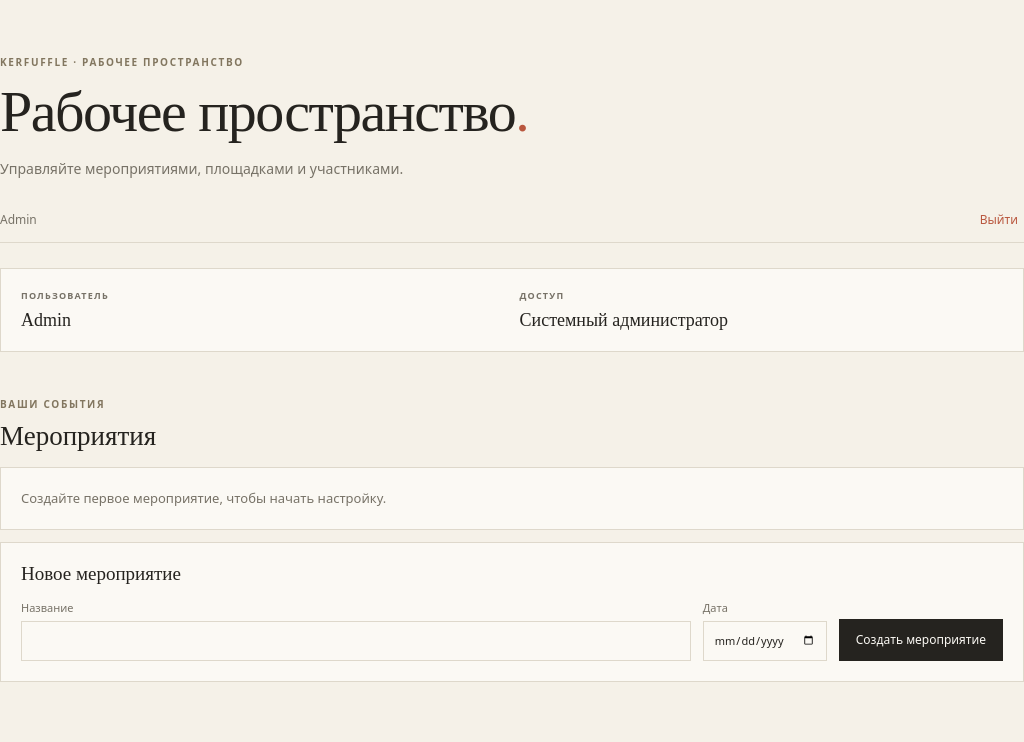
Test: WorkspacePage › creates an event using the cookie-authenticated API
Expected: the heading "Новое мероприятие" is shown, [21,563,181,584]
Type "Test event" into the field labelled "Название". click: (356, 641)
box: [21,621,691,661]
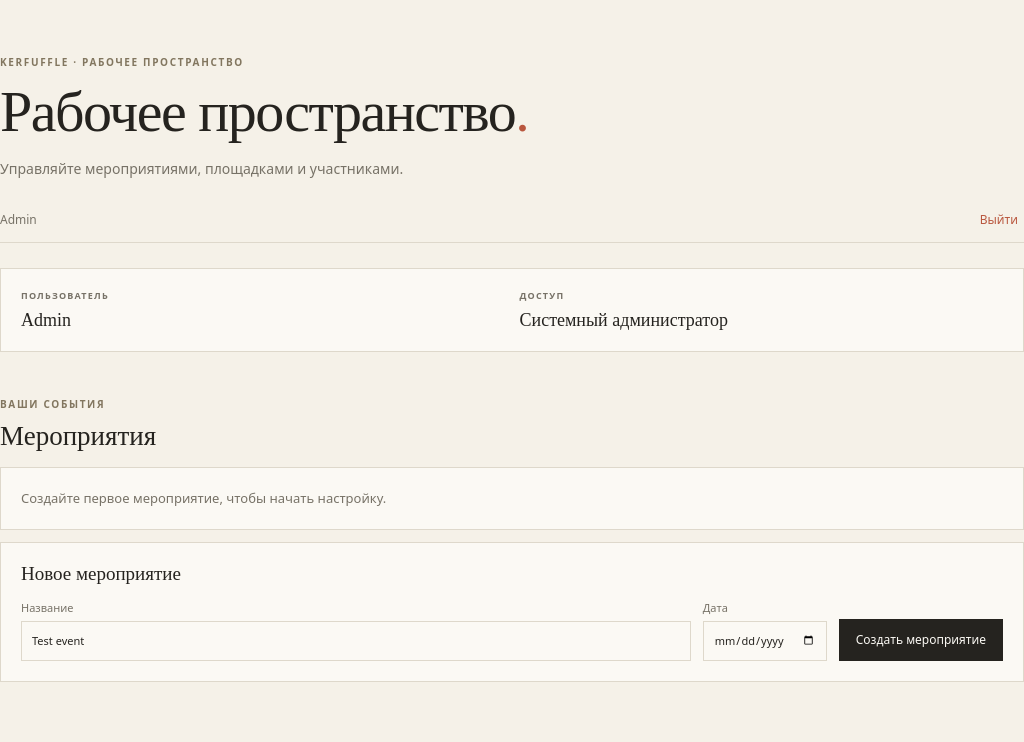
Type "2026-11-18" into the date field labelled "Дата". click: (765, 641)
box: [703,621,827,661]
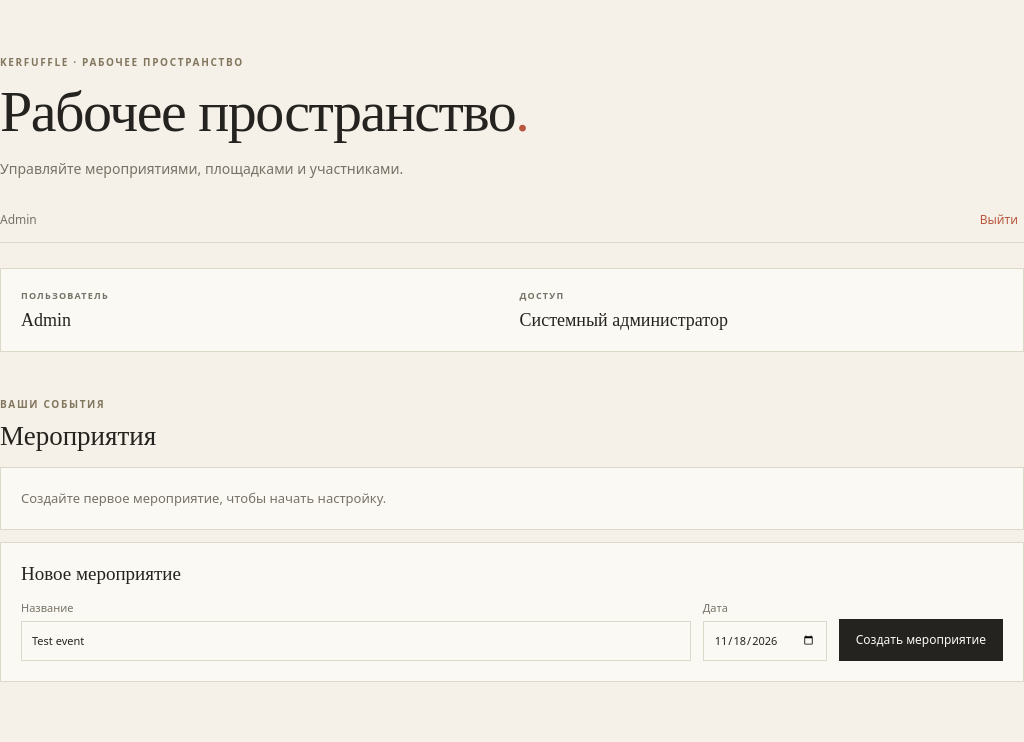
Submit the form "Создать мероприятие", box [0,542,1023,682]
(page scrolled)
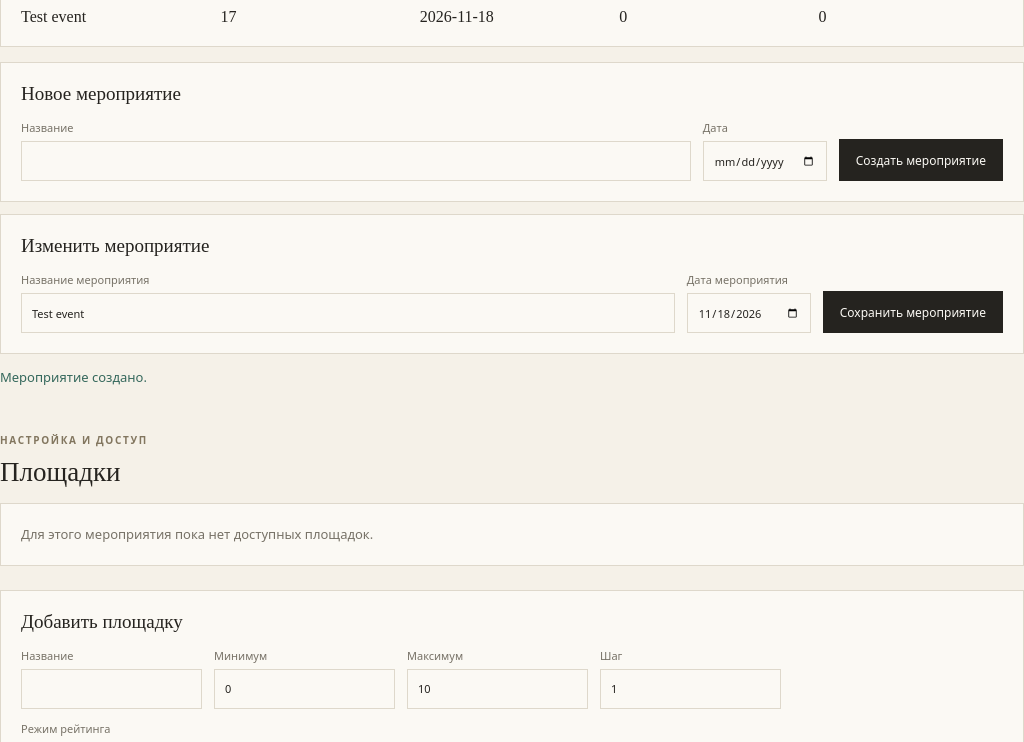
Now the text "Мероприятие создано." is shown, box [0,368,147,386]
